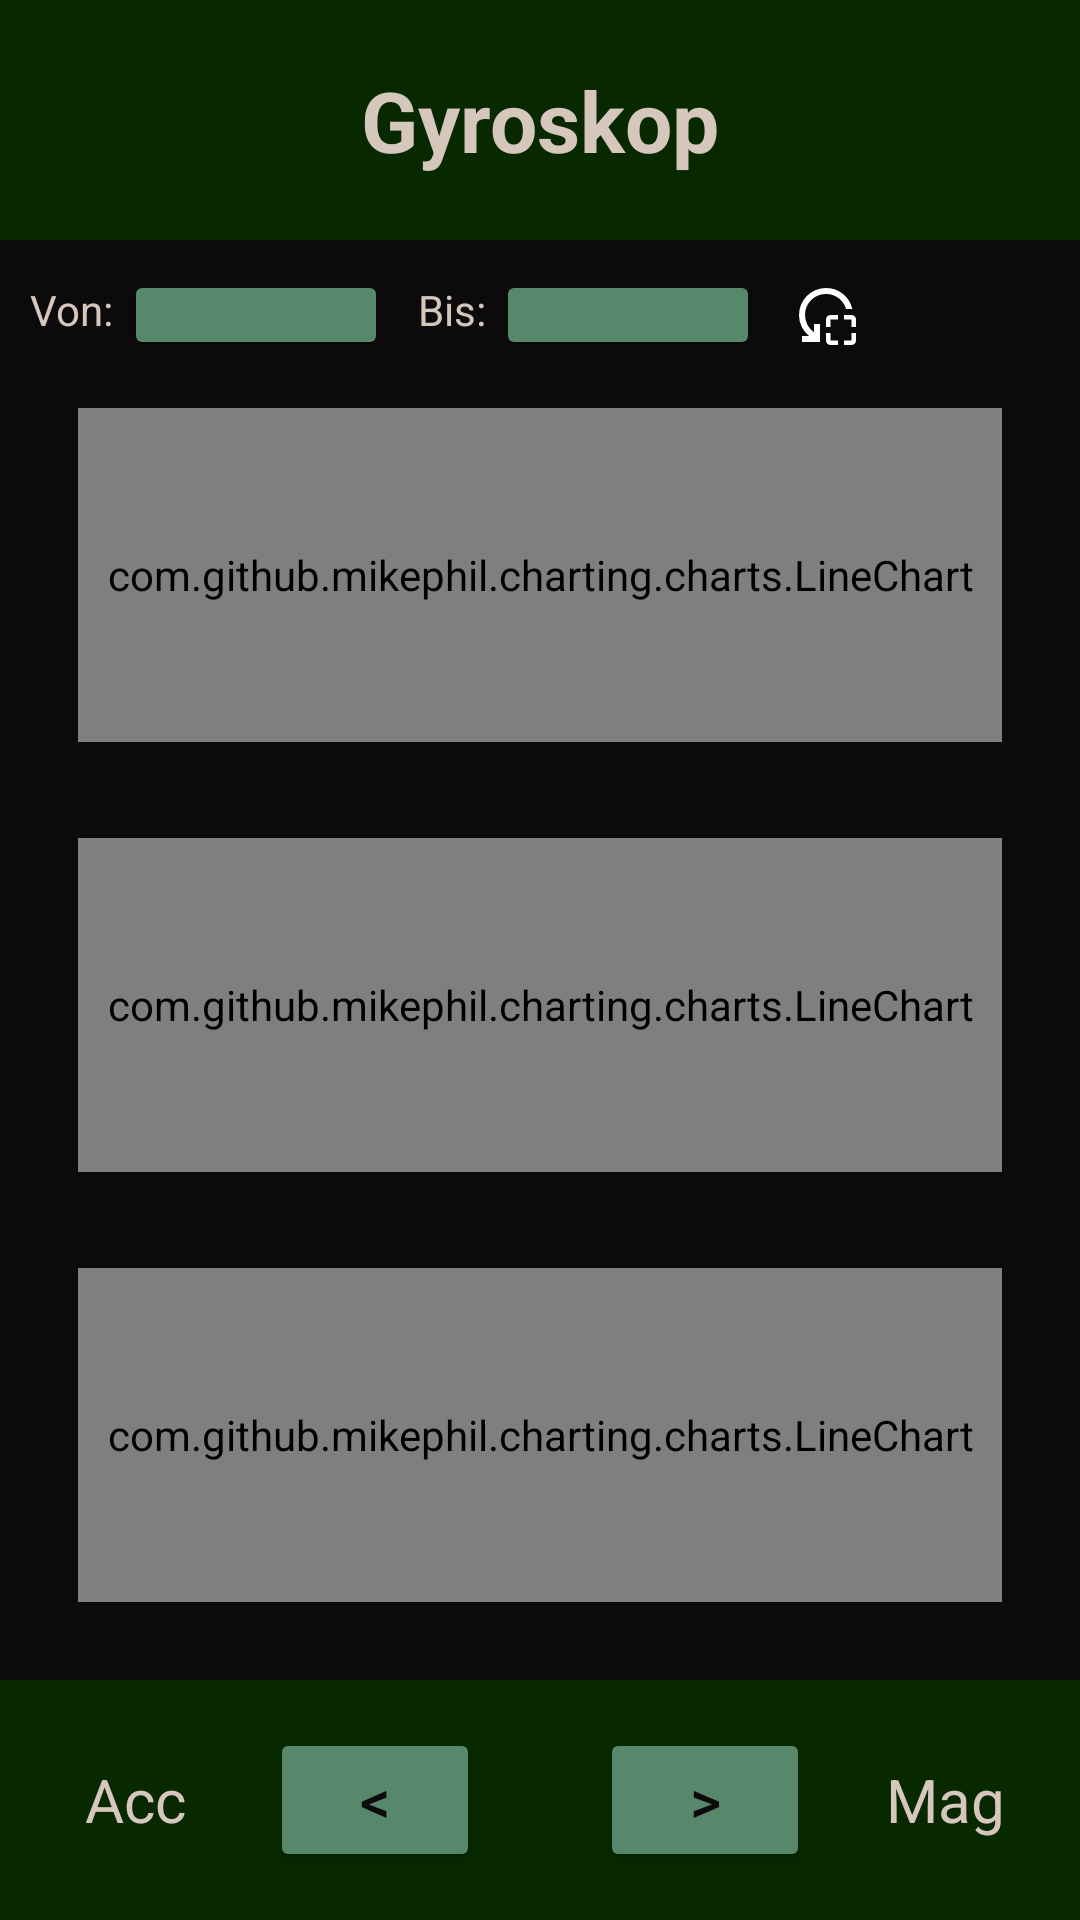

Where to tap for icons on this 1080 x 1920 app screen, as point (x, y):
reset focus: point (827, 316)
